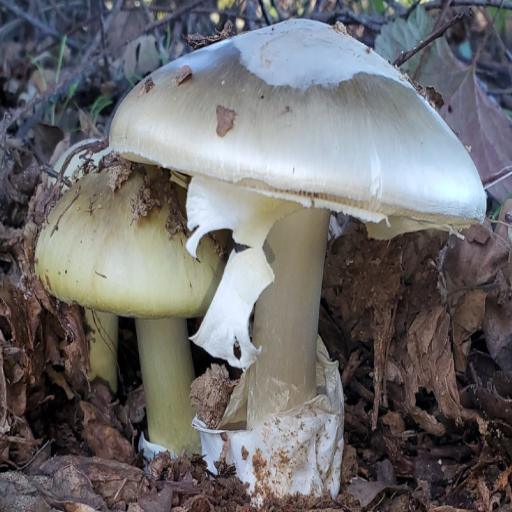mushroom: (72, 0, 512, 512), (11, 145, 243, 457)
